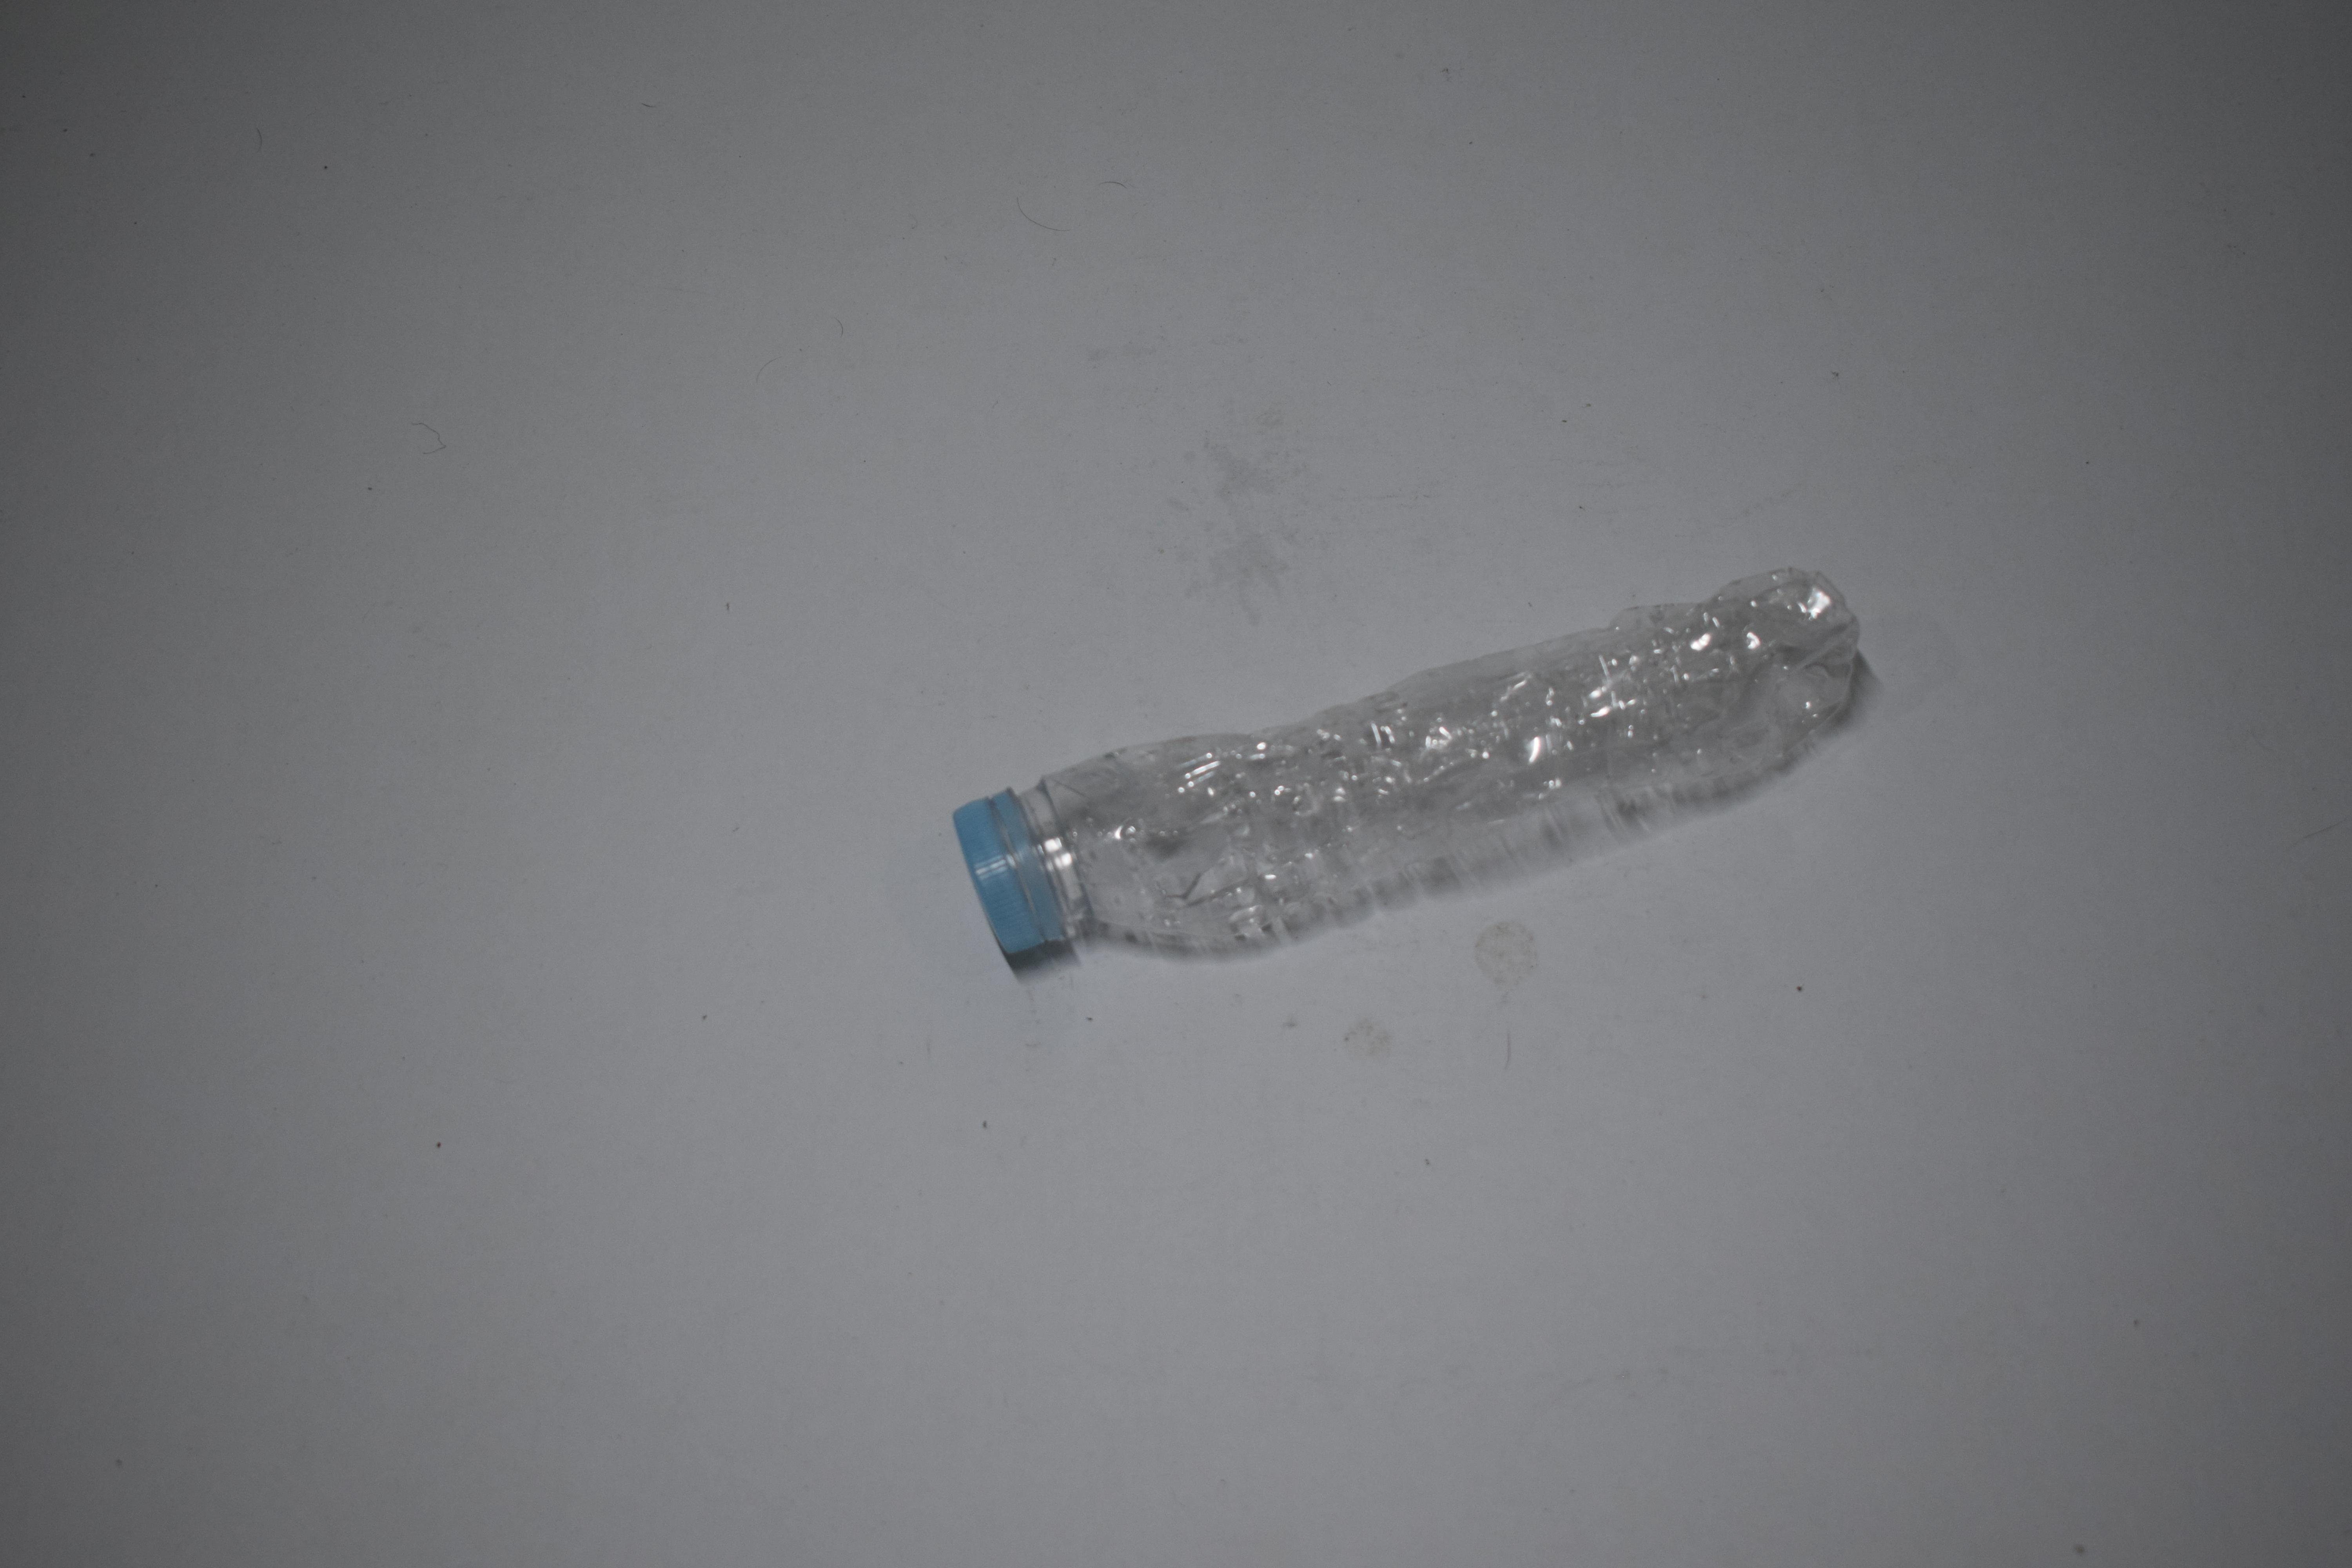bottle: (0, 560, 698, 971)
